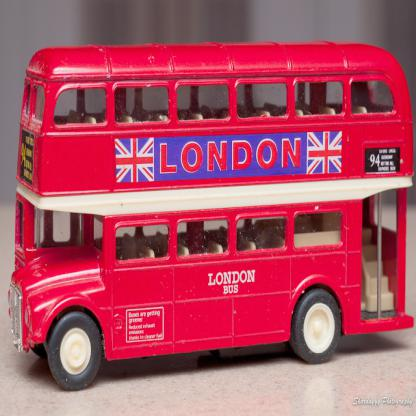Bus: (8, 41, 414, 389)
